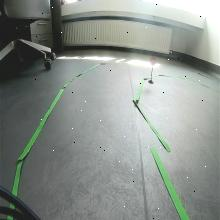stop: (149, 56, 157, 66)
